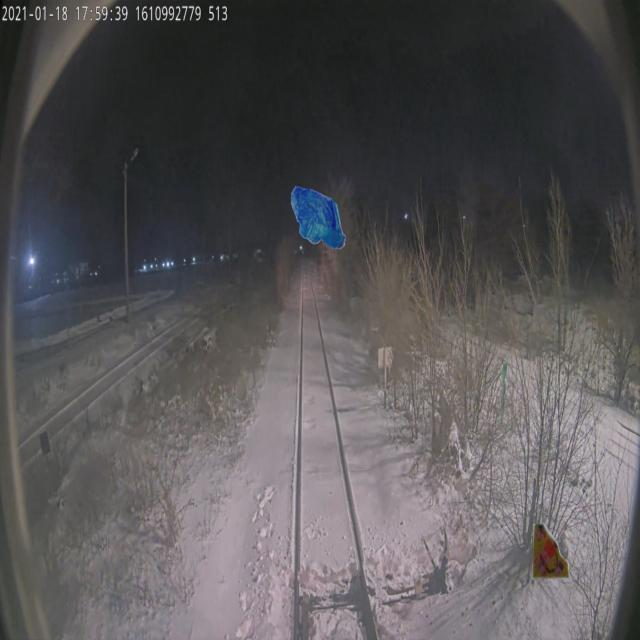floating object: (530, 518, 569, 582), (500, 360, 507, 424)
plastic bag: (290, 185, 346, 249)
